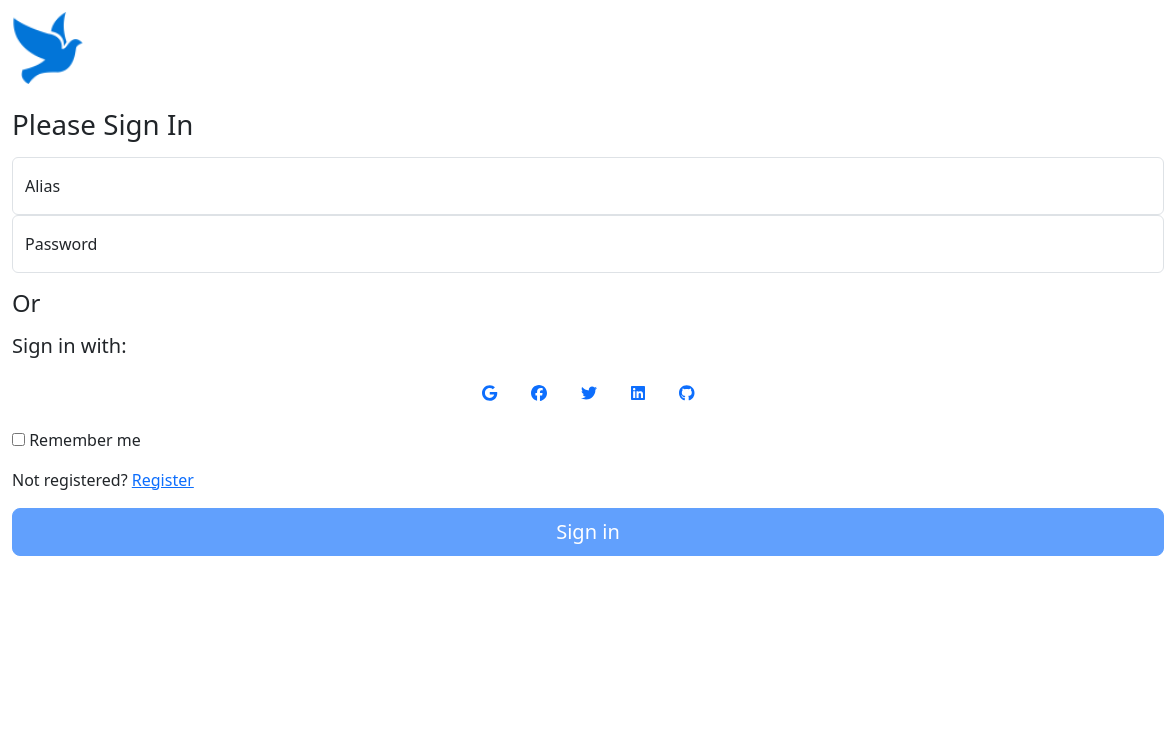
Test case: Login component tests › disables sign in button when either field is cleared
Type "a" into the field labelled "Alias". click: (588, 186)
box: [12,157,1164,215]
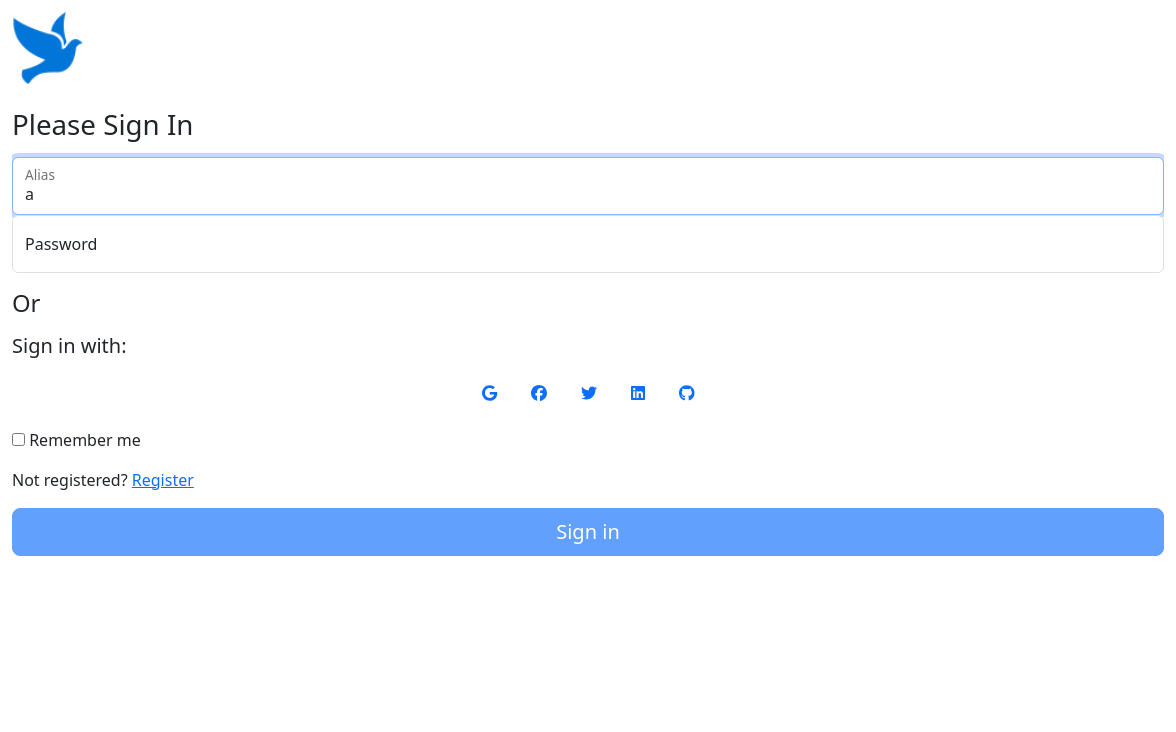
Type "p" into the password field labelled "Password". click: (588, 244)
box: [12,215,1164,273]
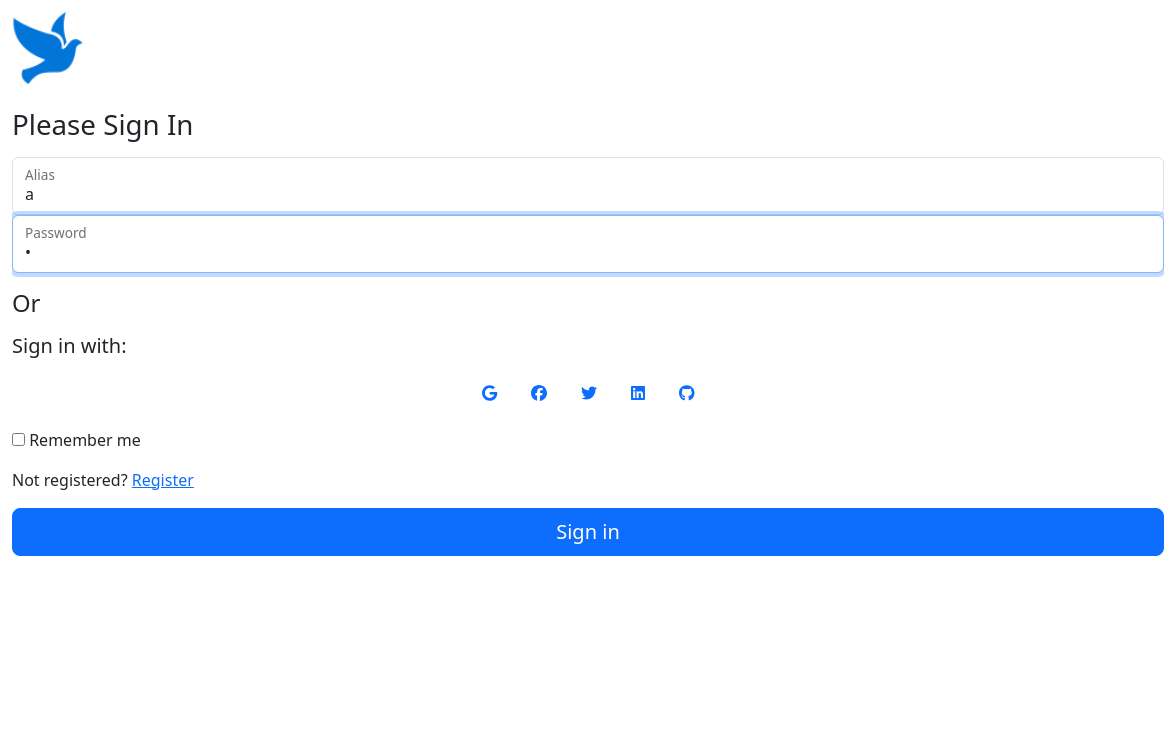
Check: the button "Sign in" is enabled, box [12,508,1164,556]
Clear the field labelled "Alias". click: (588, 186)
box: [12,157,1164,215]
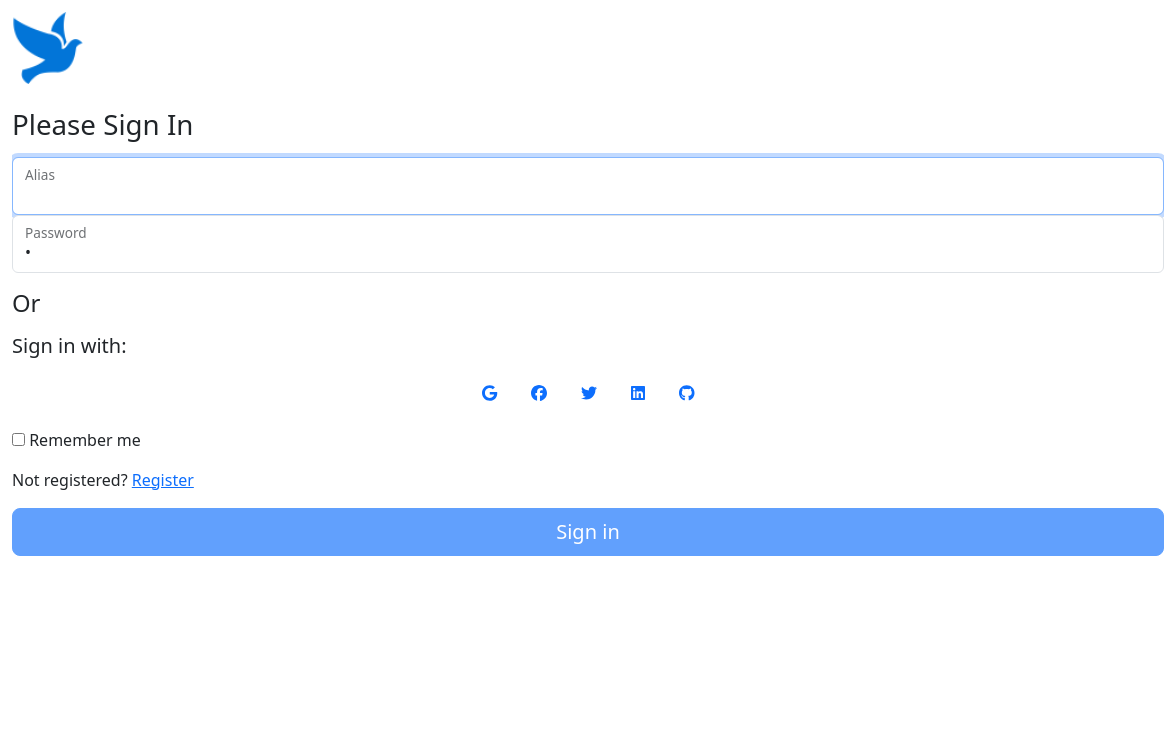
Check: the button "Sign in" is disabled, box [12,508,1164,556]
Type "a" into the field labelled "Alias". click: (588, 186)
box: [12,157,1164,215]
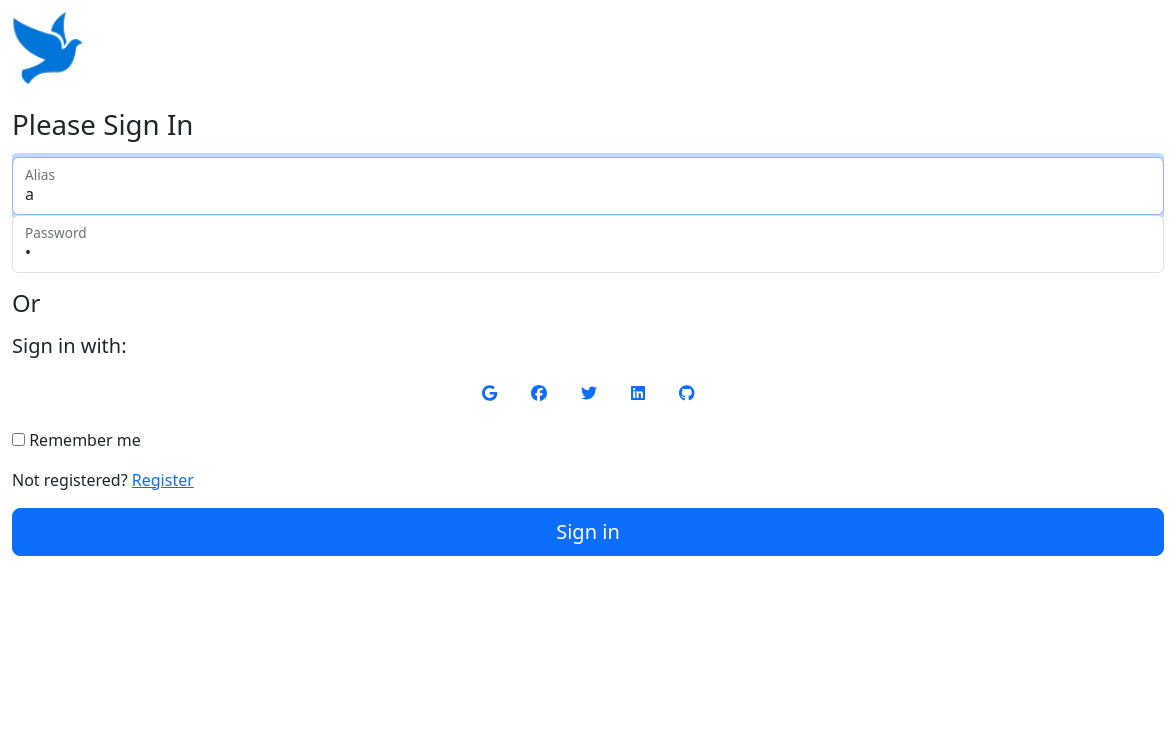
Clear the password field labelled "Password". click: (588, 244)
box: [12,215,1164,273]
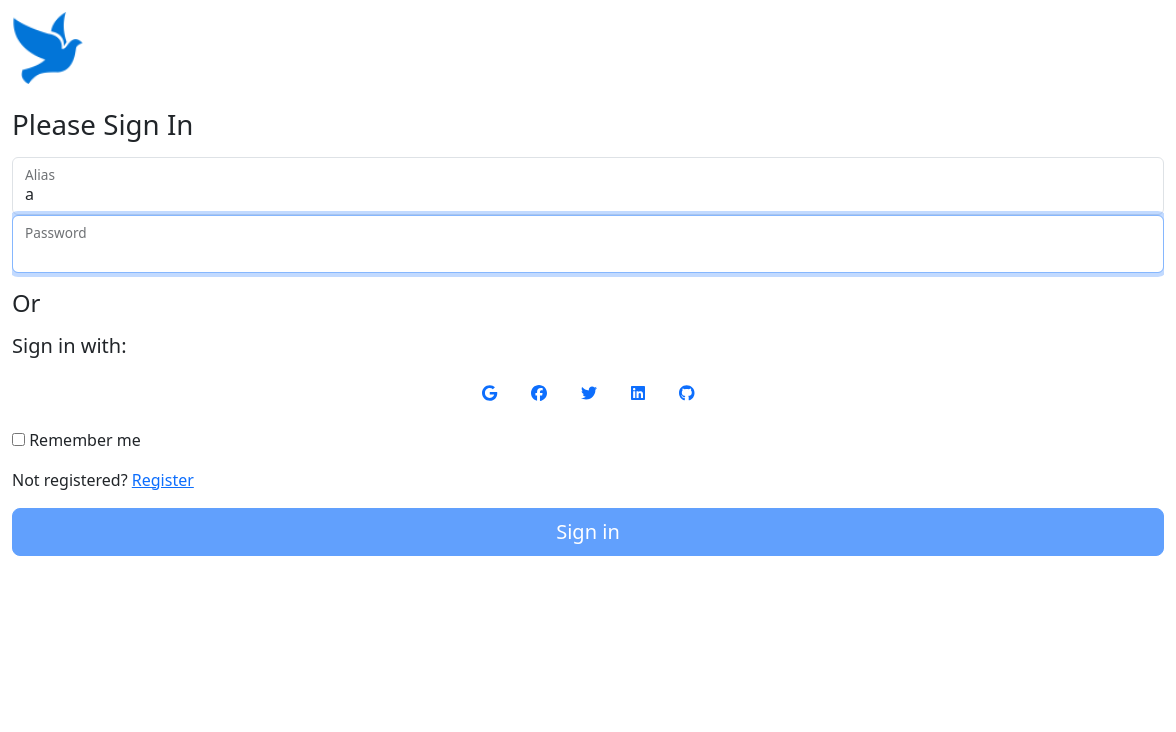
Check: the button "Sign in" is disabled, box [12,508,1164,556]
